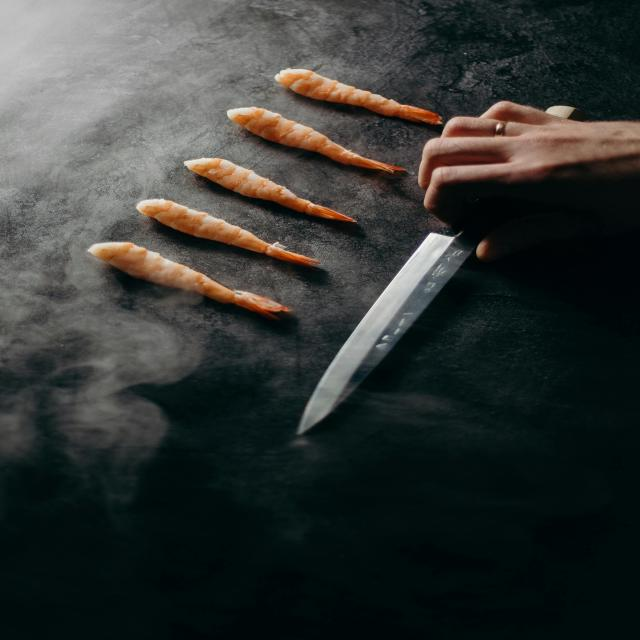knife: (297, 106, 581, 434)
